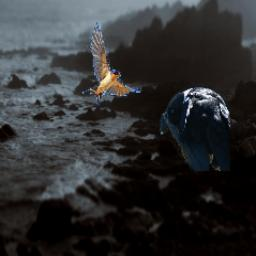Crow: (160, 87, 230, 172)
Swallow: (82, 22, 142, 107)
